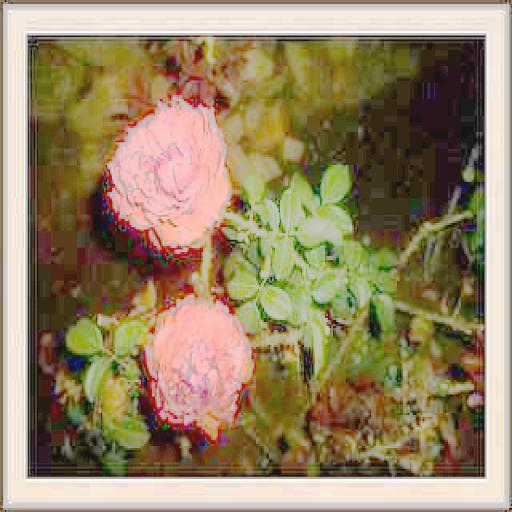rose: (109, 95, 230, 252), (142, 296, 256, 428)
